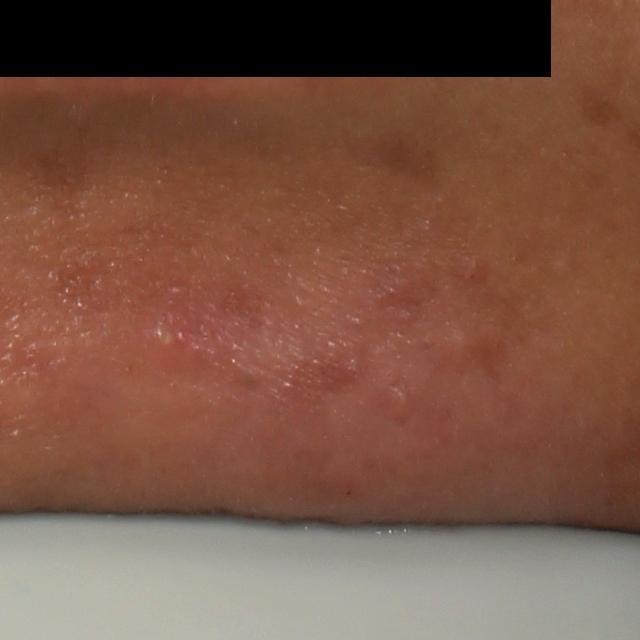pustule: (138, 308, 188, 360)
